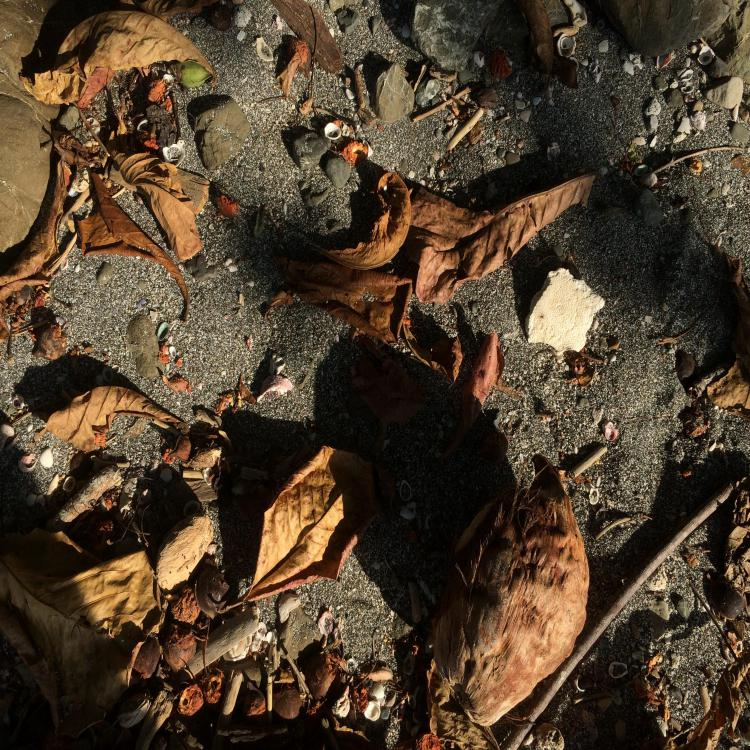Styrofoam piece: (525, 268, 605, 360)
